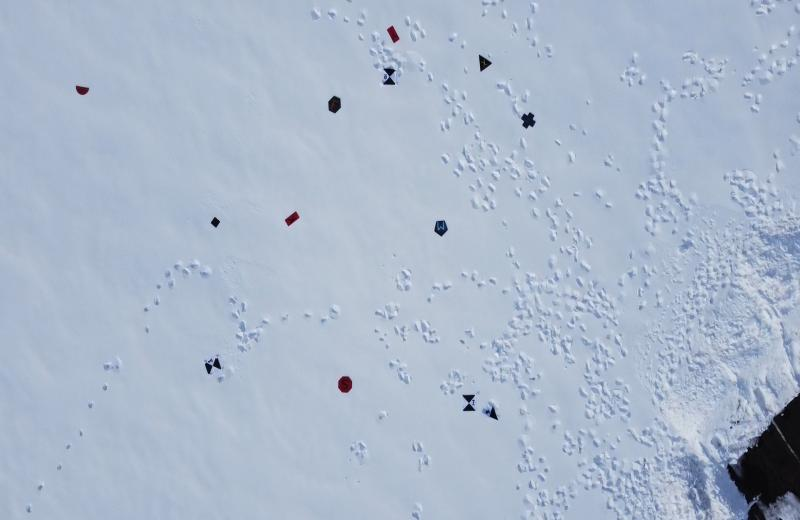Cross: (520, 111, 536, 129)
Hexagon: (326, 95, 342, 114)
Octagon: (338, 375, 354, 393)
Pentagon: (434, 219, 450, 237)
Rectangle: (386, 24, 400, 44), (284, 211, 300, 228)
Semi Circle: (74, 84, 91, 96)
Square: (210, 216, 221, 228)
Triangle: (477, 53, 493, 73)
